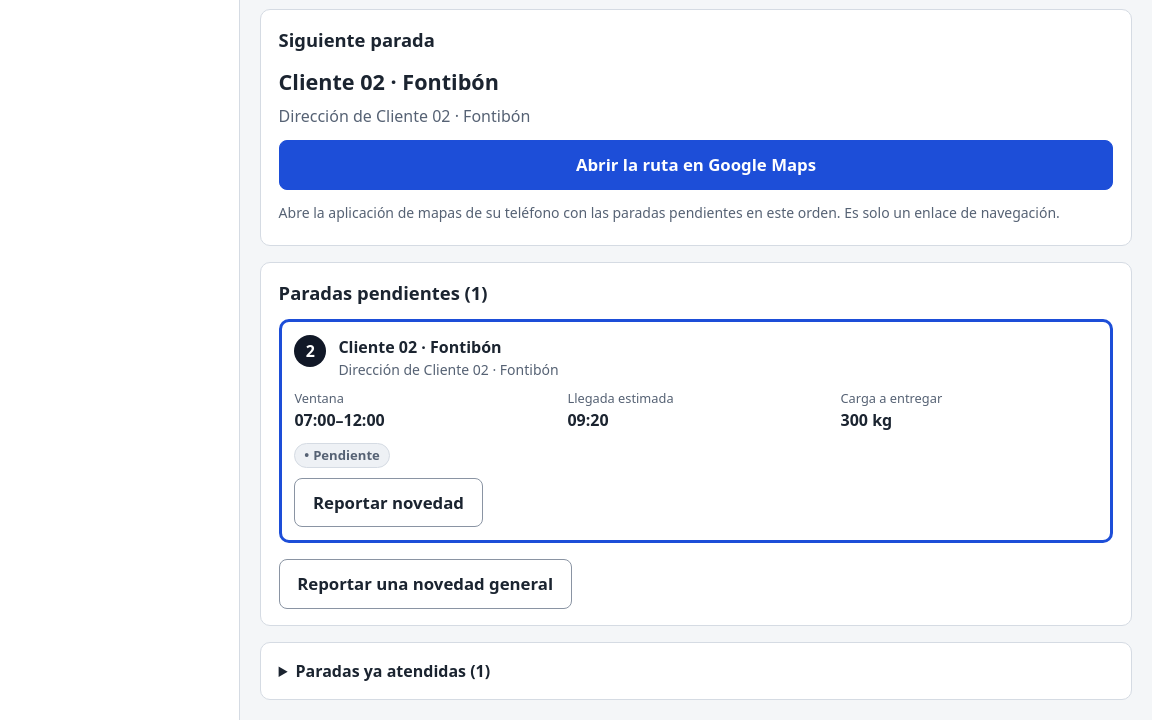
reportar novedad › envía el tipo, la descripción y el pedido de la parada elegida
This screenshot has width=1152, height=720.
(page scrolled)
Step 1. Click the button with aria-label "Reportar novedad en Cliente 02 · Fontibón" → (388, 503), box [294,478,482,528]
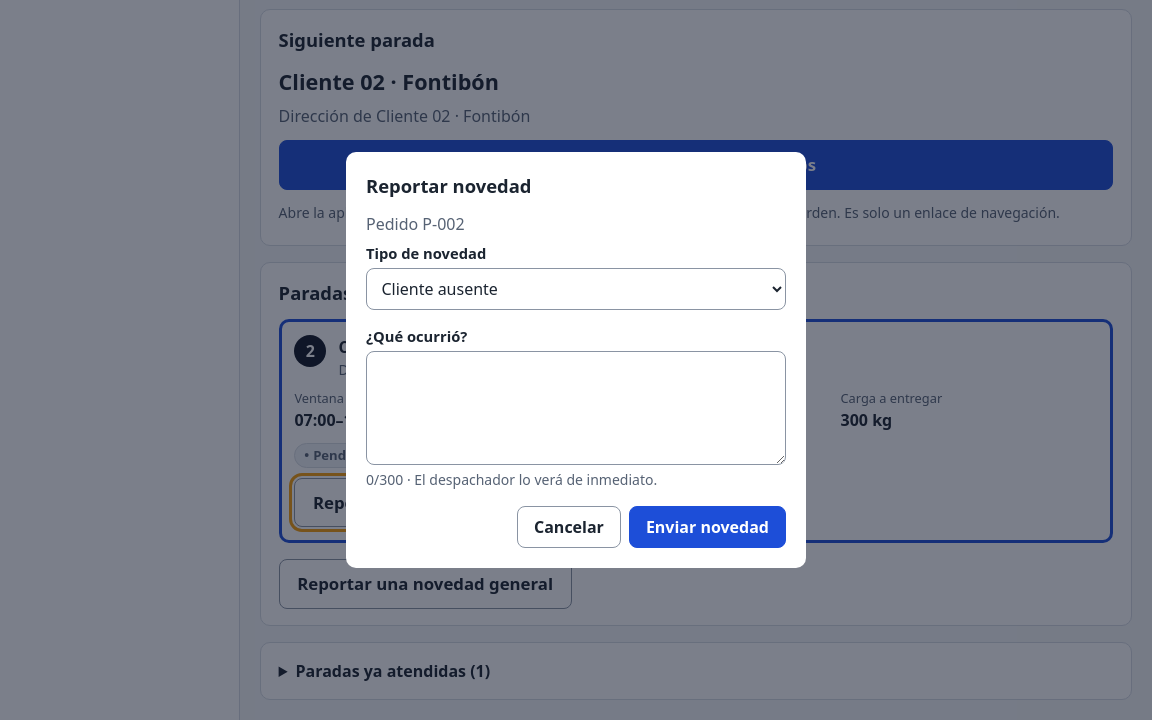
Result: the dialog "Reportar novedad" shows "Pedido P-002" at [346,152,806,568]
Step 2. Select "Acceso bloqueado" in the dropdown labelled "Tipo de novedad" → (576, 289), box [366,268,786,310]
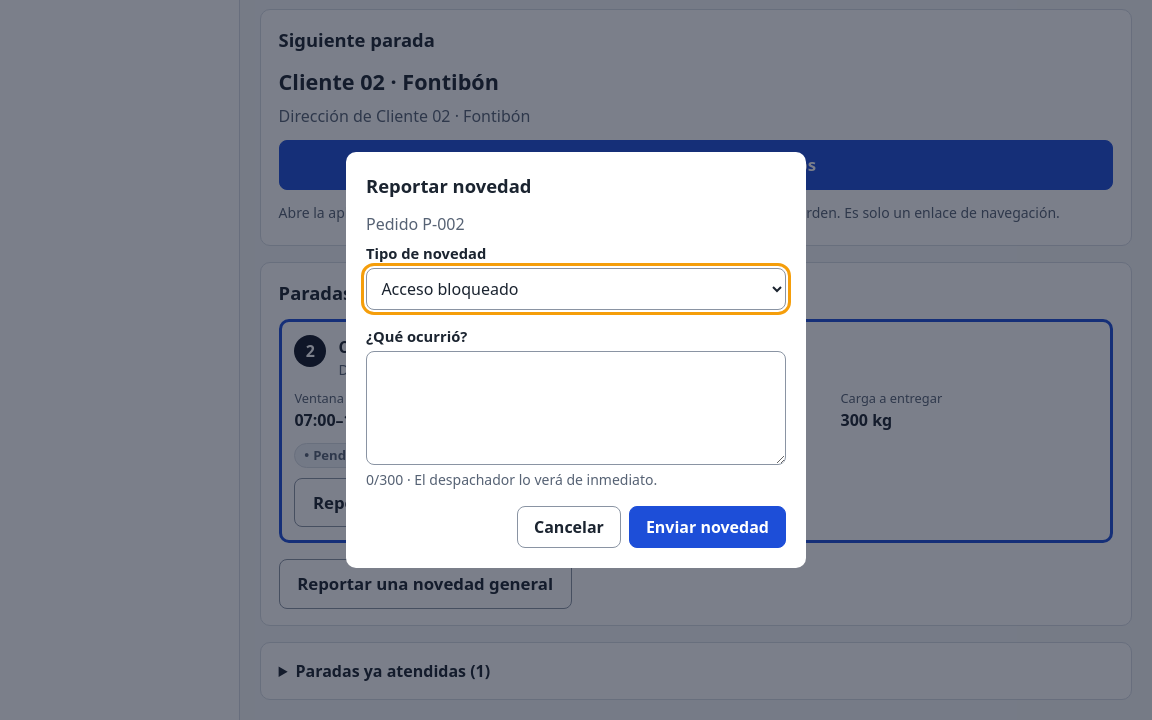
Step 3. Type "  Calle   cerrada por obra " into the text box labelled "¿Qué ocurrió?" → (576, 408), box [366,351,786,465]
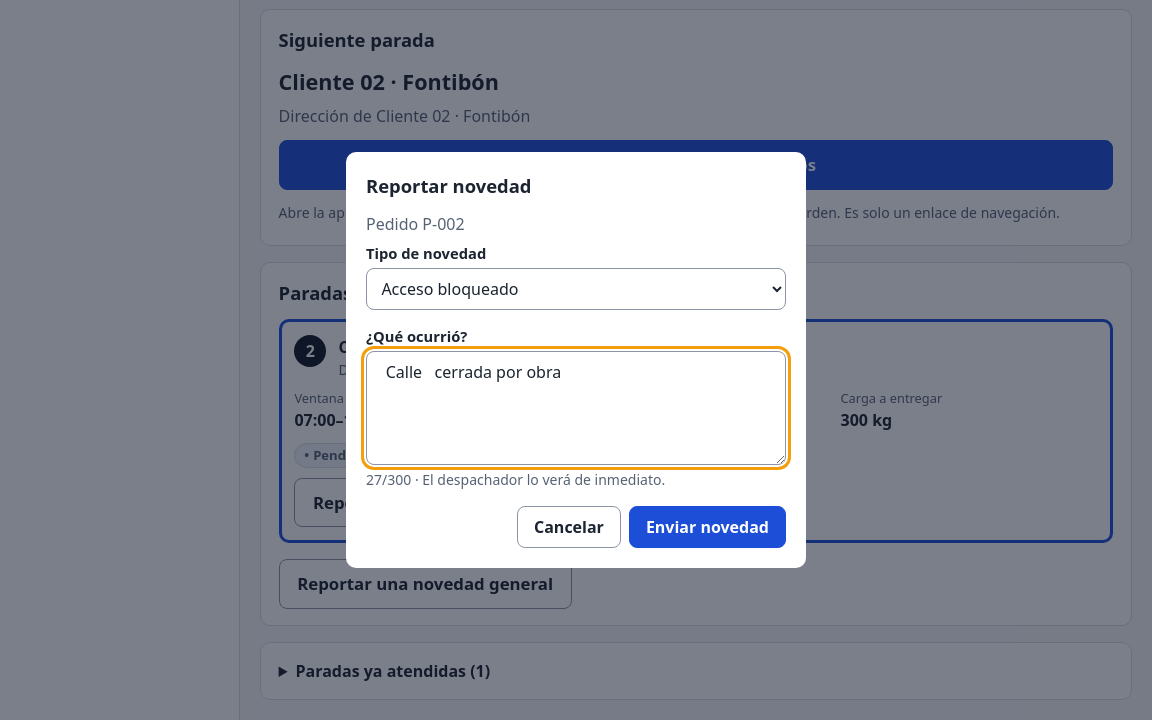
Step 4. Click the button "Enviar novedad" → (707, 527), box [629,506,786,548]
(page scrolled)
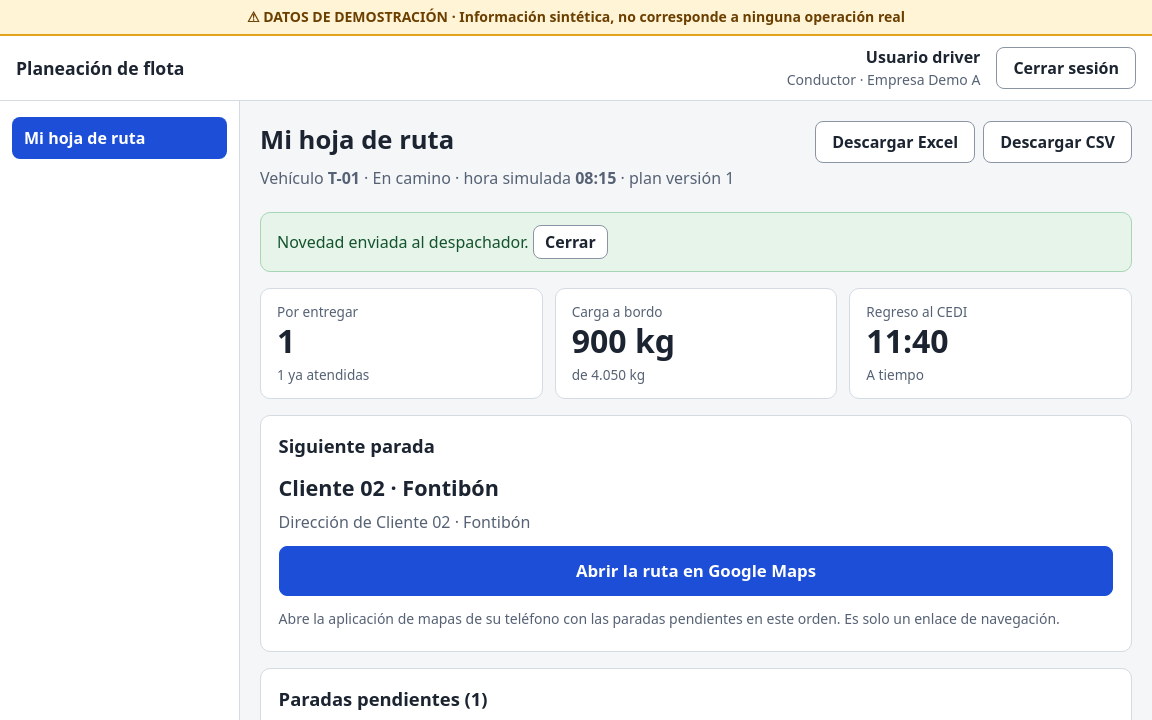
Result: the text "Novedad enviada al despachador." is shown at [277,231,529,253]
